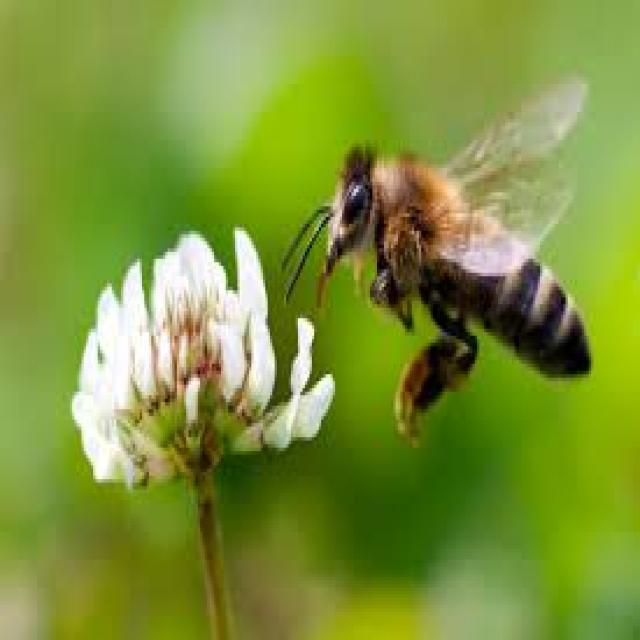Bees: (284, 81, 591, 432)
